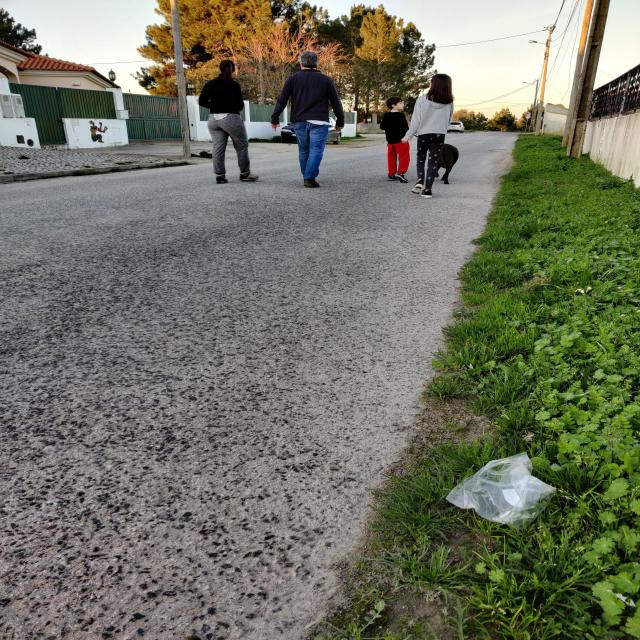litter: (445, 448, 553, 528)
